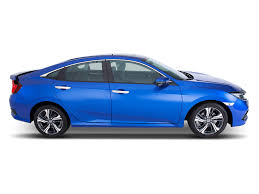Honda: (9, 52, 249, 137)
